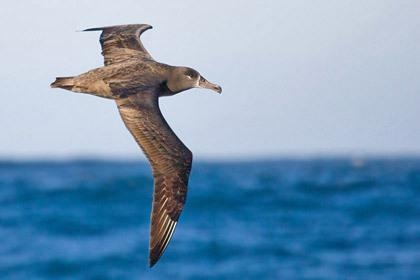bird: (49, 22, 222, 270)
